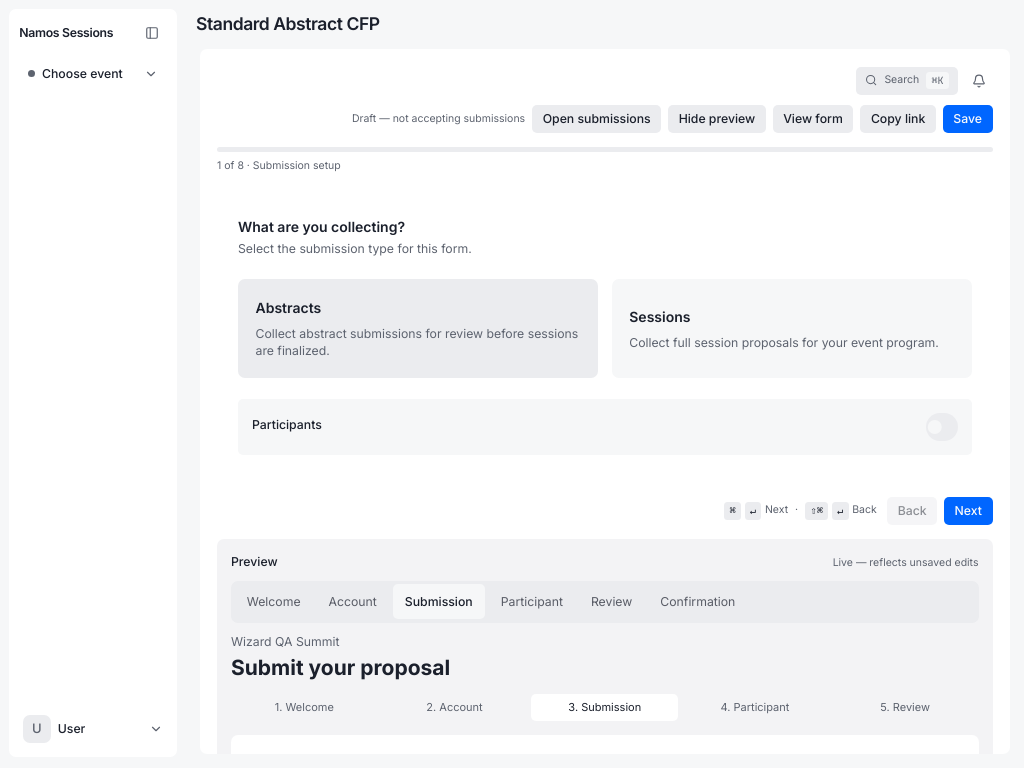
Test: CFP form builder › edits CFP appearance with a live accent preview and reset action
Click the button "Next" at (968, 511), box [944,497,992,525]
(page scrolled)
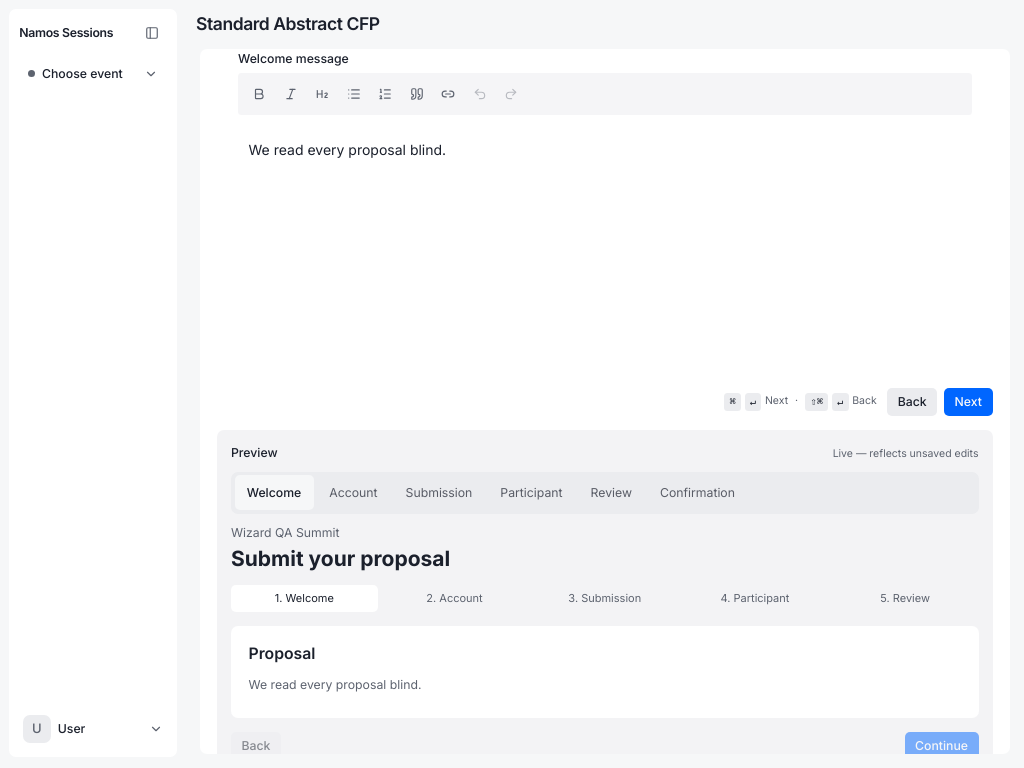
Click the button "Next" at (968, 402), box [944,388,992,416]
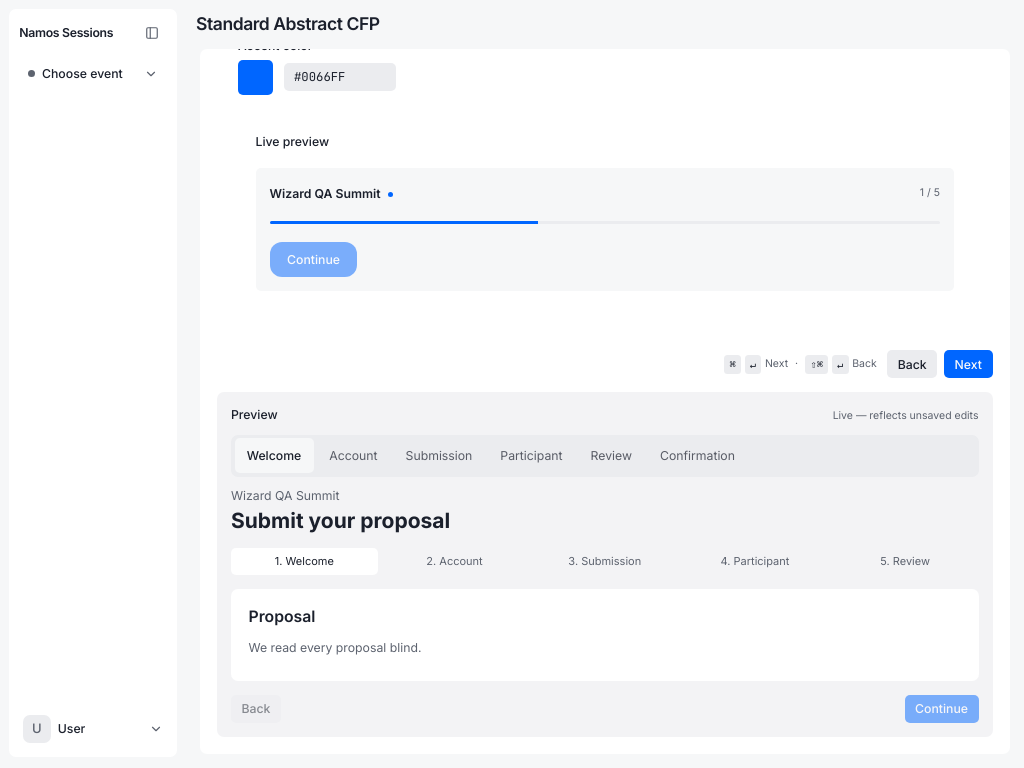
Replace the text in the field named "Accent color hex value" with "#FFFFFF" at (340, 77), box [284,63,396,91]
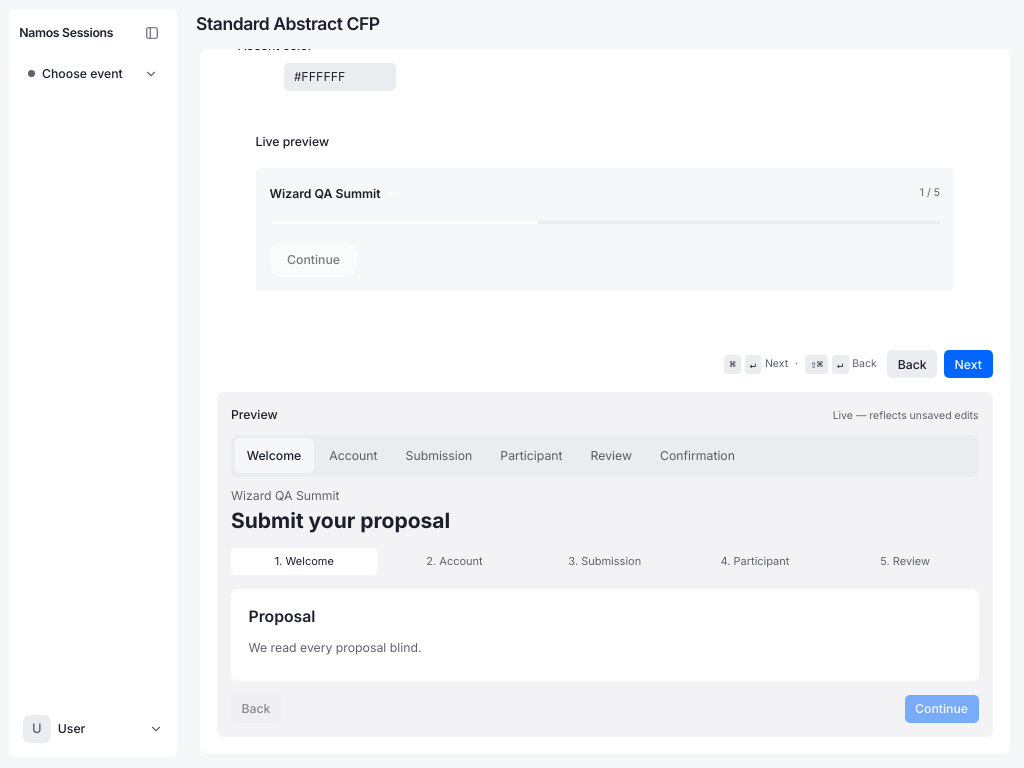
Leave the field named "Accent color hex value", box [284,63,396,91]
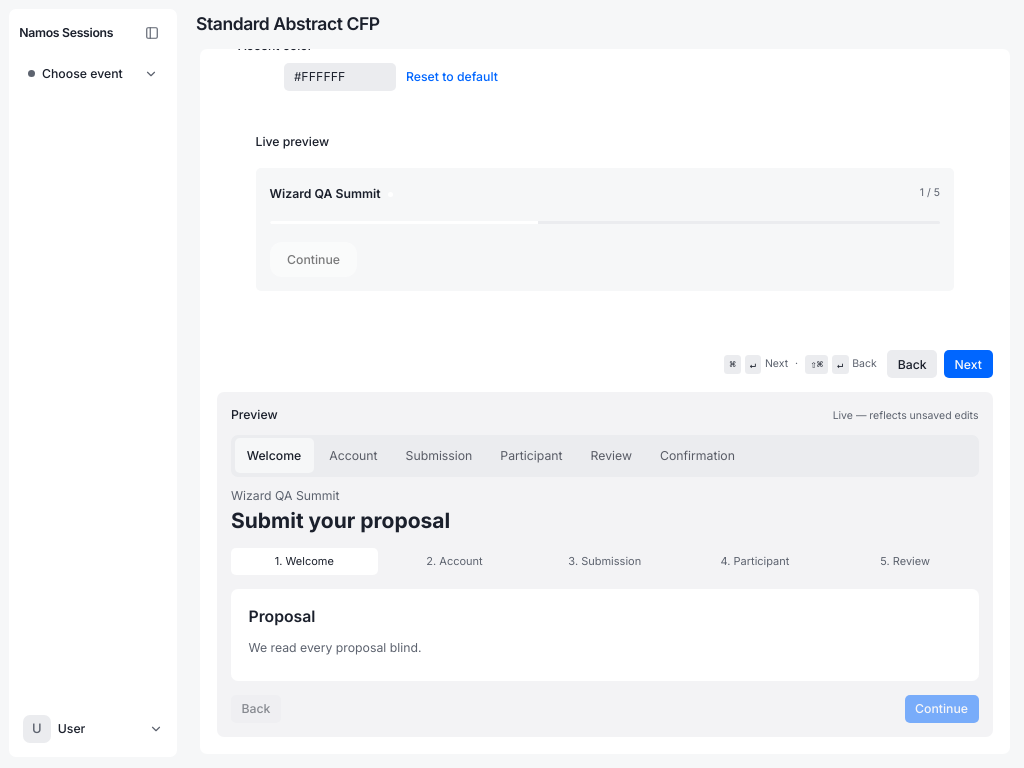
Expected: the button "Reset to default" is shown, [406,63,498,91]
